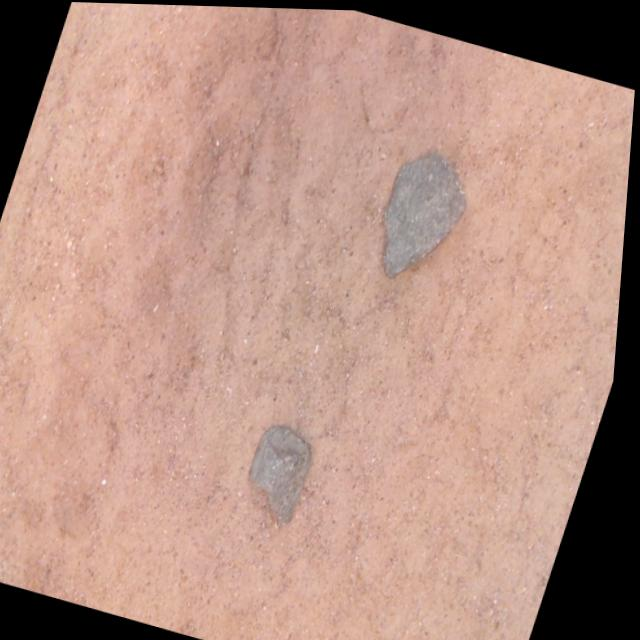rock: (386, 149, 467, 274), (255, 423, 316, 522)
